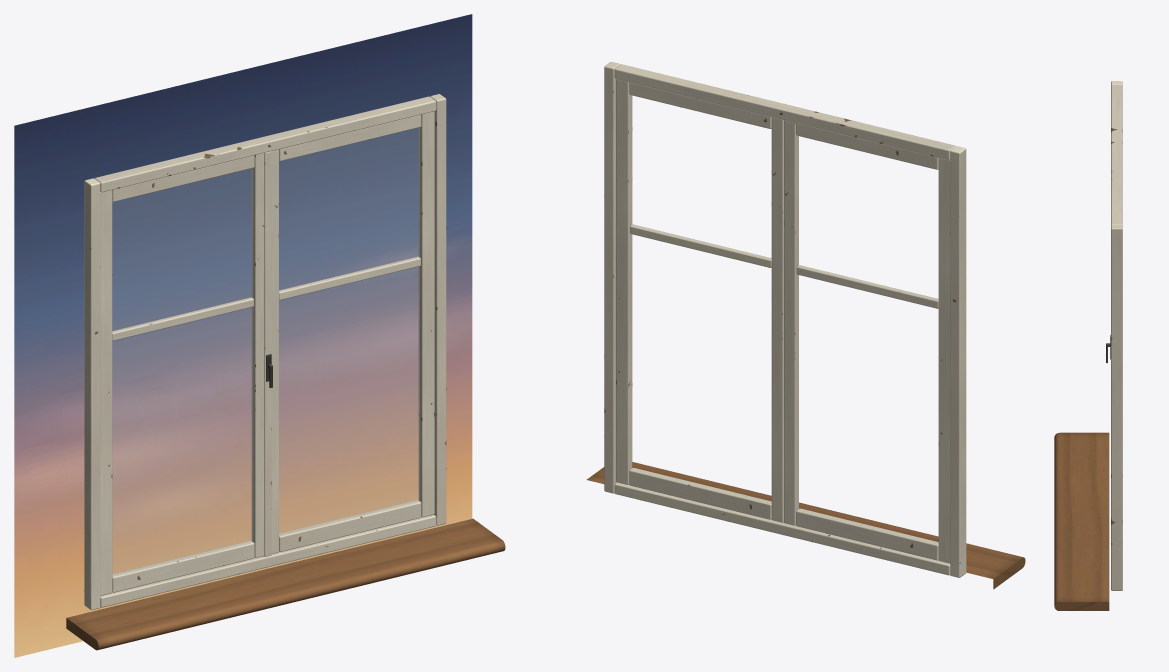
Rendered from window.glb.
3 renders of one model, left to right at view 1: azimuth 30°, elevation 25°; view 2: azimuth 150°, elevation 25°; view 3: azimuth 270°, elevation 25°, orthographic. The views are drawn at different scales.
Parts seen in each view (by area): view 1: window_sky, window_glass, window_frame, window_sill; view 2: window_frame, window_sill; view 3: window_sill, window_frame.
Part boxes in pixels (box(x1,y1,x2,y2)): window_sky: box(14, 14, 472, 657); window_glass: box(112, 128, 419, 574); window_frame: box(84, 94, 446, 610); window_sill: box(66, 518, 505, 650); window_frame: box(604, 61, 966, 577); window_sill: box(586, 462, 1025, 589); window_sill: box(1054, 432, 1109, 610); window_frame: box(1106, 81, 1122, 590).
Bounding box in the file's own units: 9 × 10 × 2.
3 materials, 2 textured.
